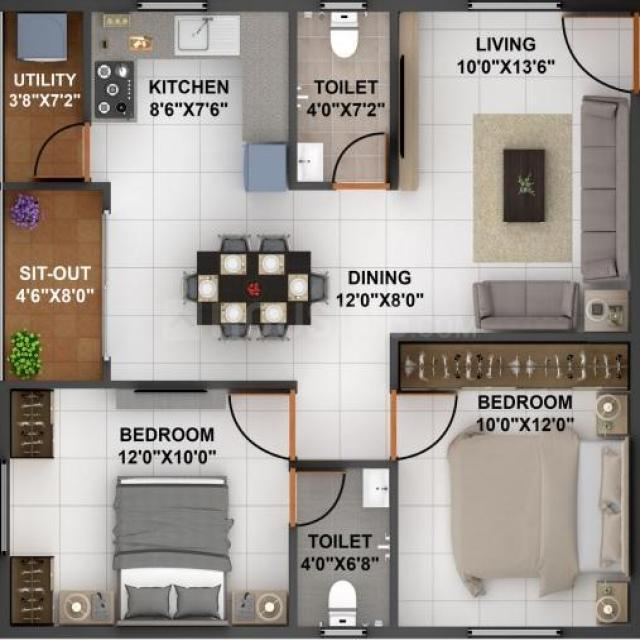Balcony-Sitout: (3, 187, 108, 381)
Bedroom: (391, 337, 634, 638)
Bedroom with Toilet: (3, 384, 394, 635)
Dining: (173, 228, 331, 345)
Enterance-Foyer: (558, 3, 640, 95)
Kitchen: (89, 4, 292, 184)
Living: (393, 6, 636, 336)
Toilet: (292, 6, 393, 187), (295, 464, 393, 629)
Utility: (4, 4, 88, 185)
